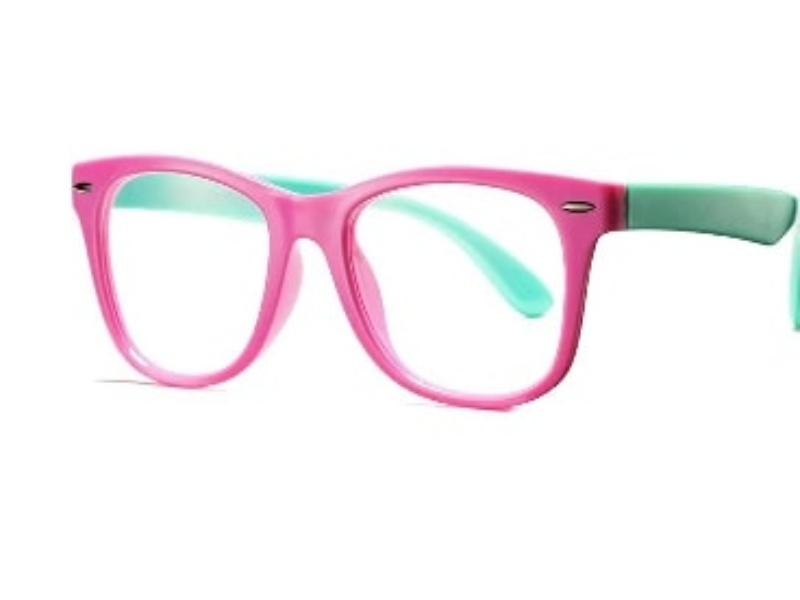goggles: (63, 157, 614, 414)
